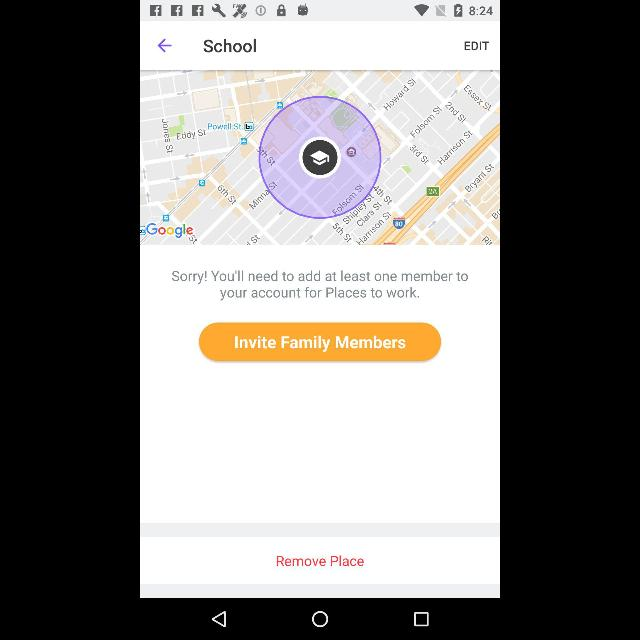icon: (156, 38, 172, 54), (312, 611, 328, 627), (212, 611, 226, 627), (414, 612, 428, 626)
map: (140, 70, 500, 246)
panel: (140, 599, 500, 639)
text: (170, 270, 470, 300), (232, 335, 408, 349), (277, 557, 363, 567), (204, 39, 256, 53), (464, 41, 490, 53)
textbutton: (140, 537, 500, 583), (200, 323, 440, 361), (456, 21, 499, 70)
toolbar: (140, 20, 500, 70)
uppertaskbar: (140, 2, 500, 20)
